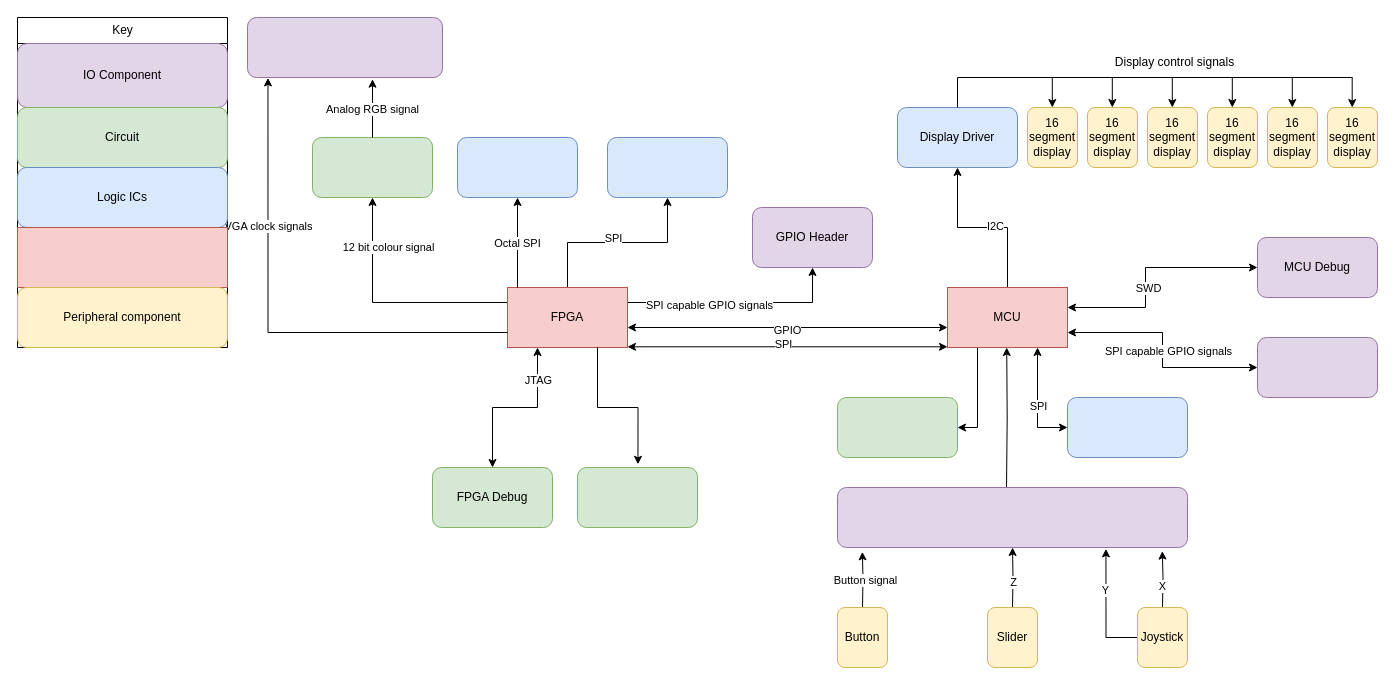
Image size: 1395x685. Some labels were removed from this diagram. Here are the shapes that lost their labels. From the top down, the centre of each, then its label:
At pixel 344 47: "VGA Output".
At pixel 372 167: "VGA DAC".
At pixel 517 167: "PSRAM".
At pixel 667 167: "Flash Memory".
At pixel 122 257: "Programable ICs".
At pixel 1317 367: "MCU GPIO".
At pixel 897 427: "MCU LEDs and Buttons".
At pixel 1127 427: "SD Card".
At pixel 637 497: "FPGA LEDs".
At pixel 1012 517: "Controller Header".
